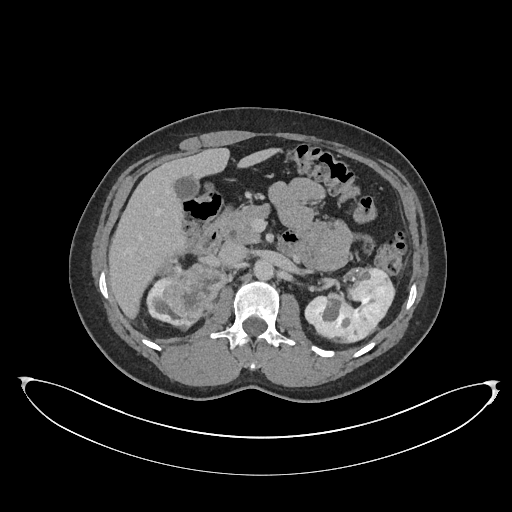Lesion: (321, 294, 343, 325)
